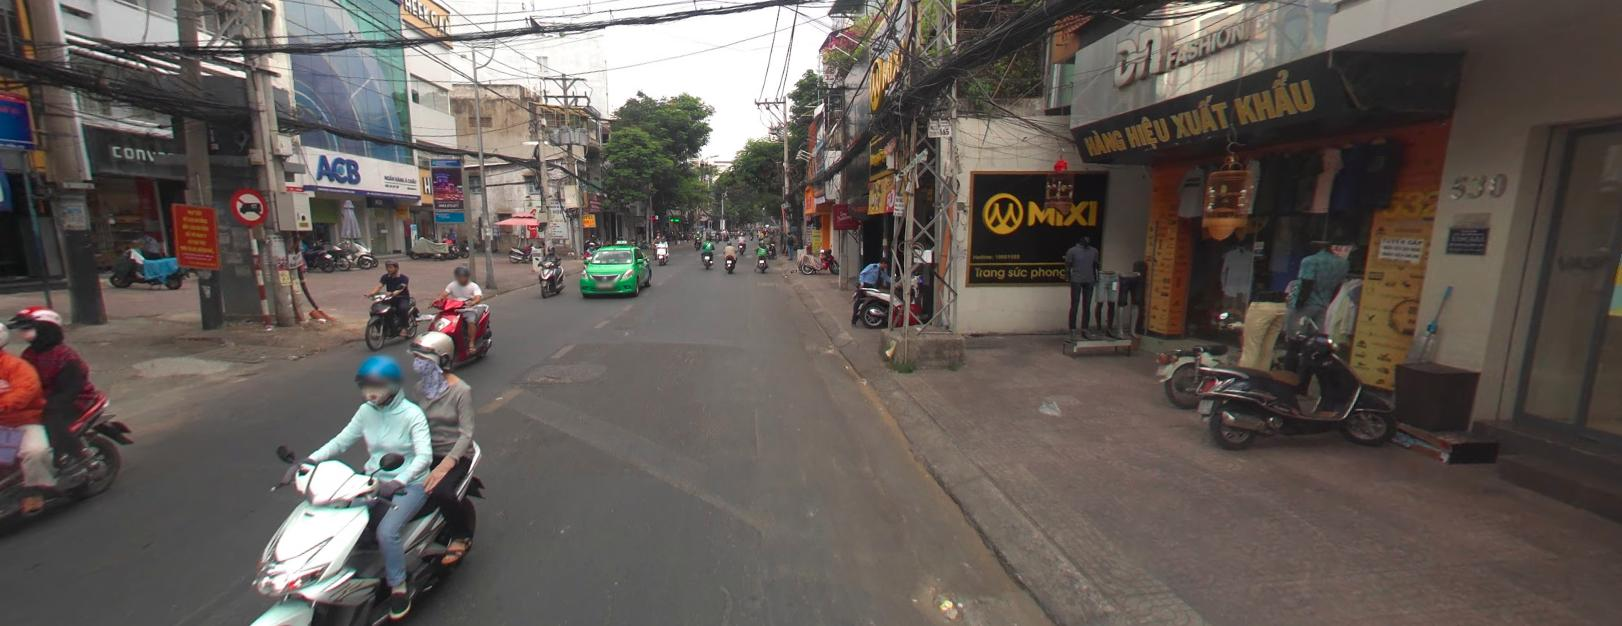Cam con lai: (228, 186, 269, 226)
